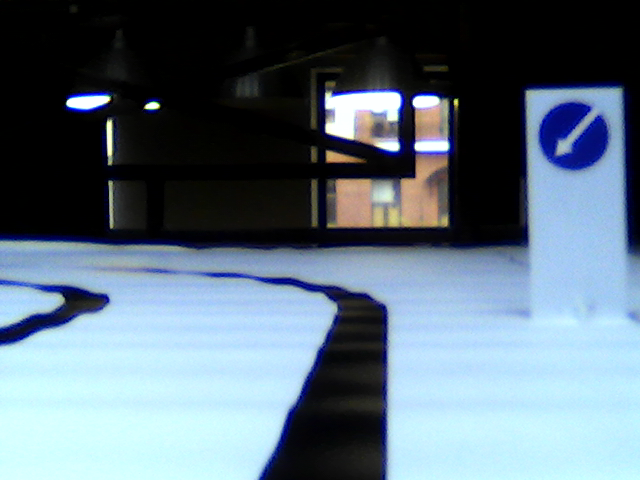prep: (536, 103, 607, 169)
